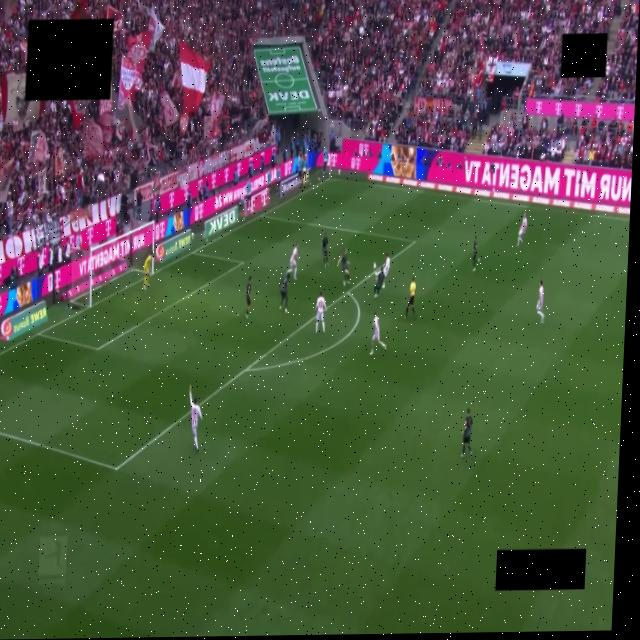ball: (373, 262, 375, 269)
player: (188, 385, 201, 452), (370, 312, 385, 354), (461, 409, 472, 457), (535, 279, 546, 324), (279, 272, 290, 313), (337, 250, 349, 286), (315, 292, 325, 334), (288, 243, 298, 280), (143, 254, 152, 290), (374, 266, 384, 297), (517, 213, 526, 246), (245, 276, 251, 318), (382, 254, 389, 288), (472, 236, 478, 271), (321, 232, 327, 267)
referee: (405, 277, 415, 319)
